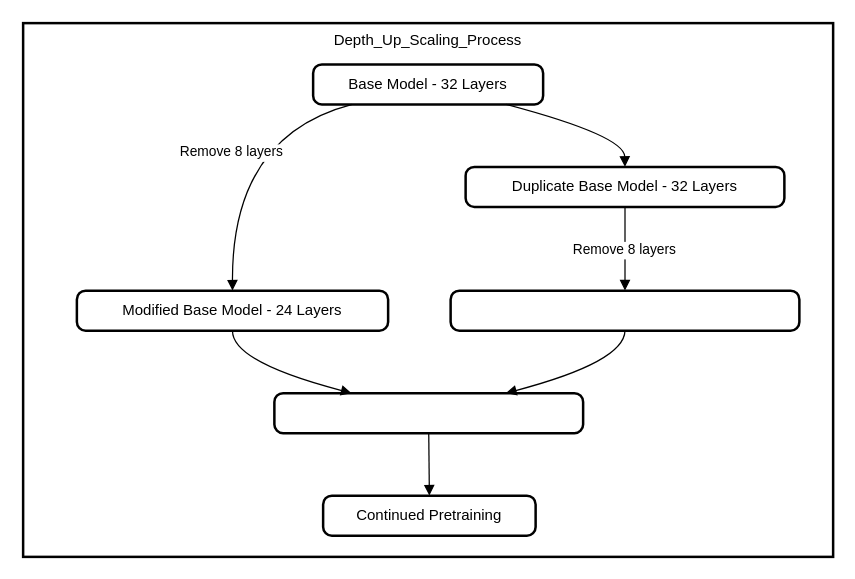
Image size: 855x579. Some labels were removed from this diagram. Here are the shapes that lost their labels. From the top down, the centre of each, then its label:
At (624,310): "Modified Duplicate Model - 24 Layers".
At (428,412): "Concatenated Model - 48 Layers".
